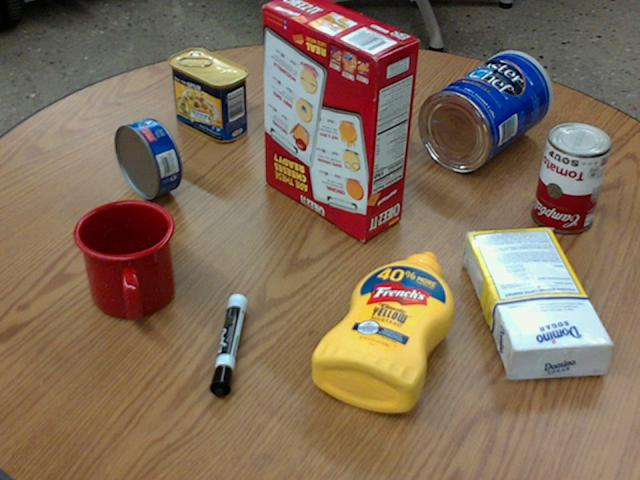cracker_box: (262, 0, 418, 240)
gelatin_box: (306, 63, 390, 120)
large_marker: (208, 293, 245, 397)
master_chef_can: (418, 50, 550, 171)
mug: (73, 200, 175, 320)
mustard_bottle: (310, 250, 453, 413)
potted_meat_can: (167, 49, 247, 141)
sugar_box: (461, 228, 614, 378)
tomato_soup_can: (531, 120, 609, 231)
tuna_fish_can: (115, 118, 180, 199)
